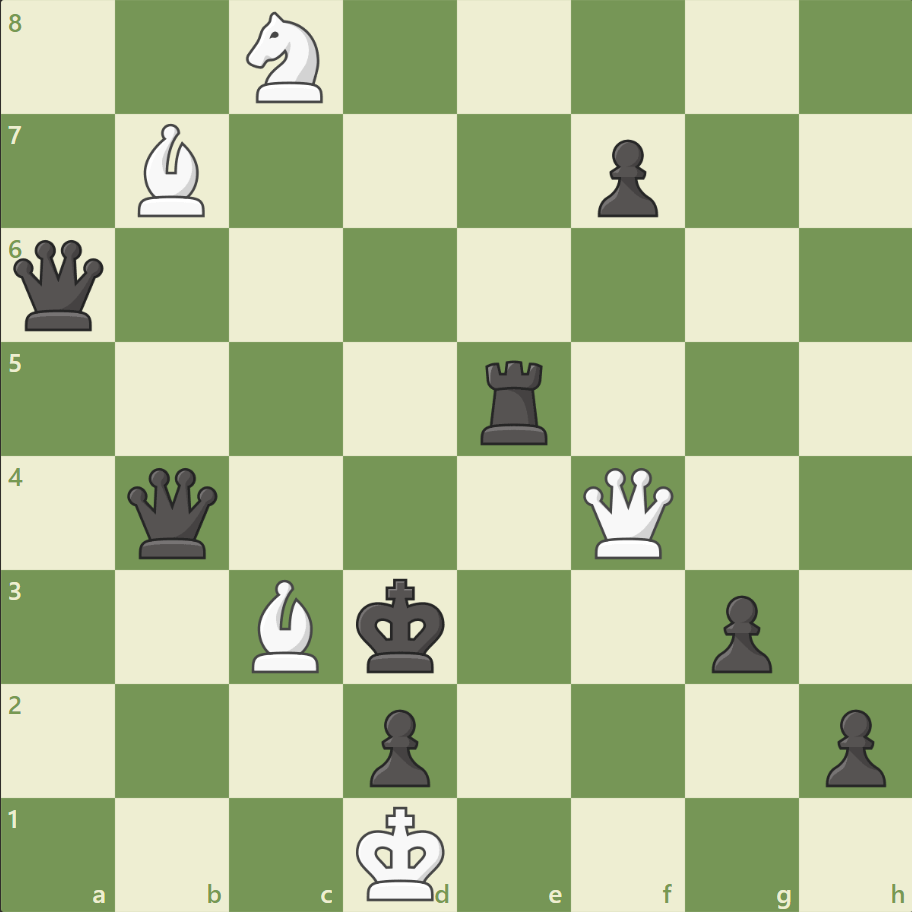B: (131, 120, 215, 222), (244, 574, 328, 676)
K: (351, 798, 451, 906)
N: (238, 7, 335, 110)
Q: (578, 463, 677, 562)
k: (351, 571, 451, 679)
p: (701, 586, 776, 677), (588, 132, 662, 223), (361, 700, 435, 791), (815, 700, 889, 791)
q: (10, 236, 109, 335), (124, 463, 223, 562)
r: (473, 352, 556, 449)
